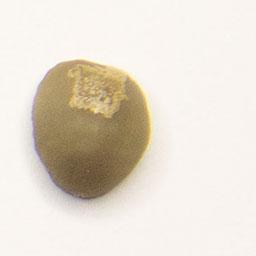premium: (28, 56, 156, 202)
